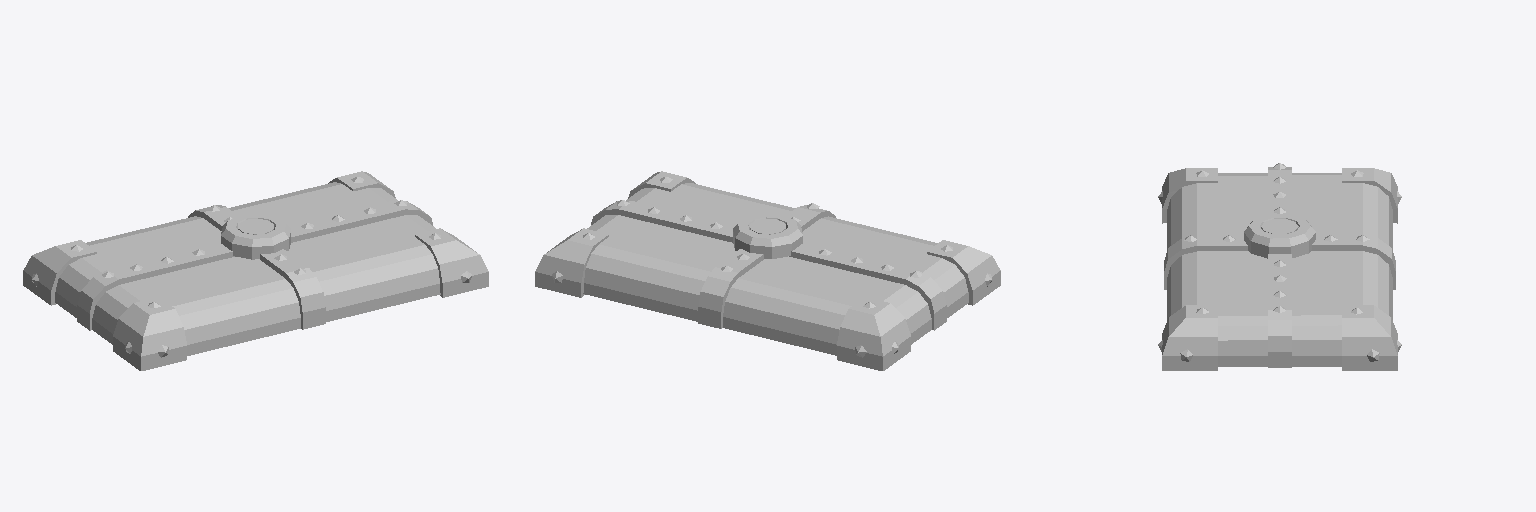
Rendered from chest_top.obj.
3 renders of one model, left to right at view 1: azimuth 30°, elevation 25°; view 2: azimuth 150°, elevation 25°; view 3: azimuth 270°, elevation 25°, orthographic.
Parts seen in each view (by area): view 1: Cube.001; view 2: Cube.001; view 3: Cube.001.
Boxes of the visible parts, x1,y1,x2,y2 form: Cube.001: [23, 171, 488, 370]; Cube.001: [535, 171, 1000, 370]; Cube.001: [1158, 163, 1401, 370].
Size of the model in its own units: 0.878 by 0.1418 by 0.5237.